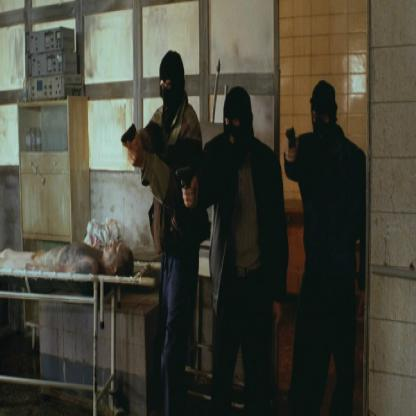Guns: (172, 160, 192, 201), (119, 118, 138, 153), (282, 123, 297, 158)
